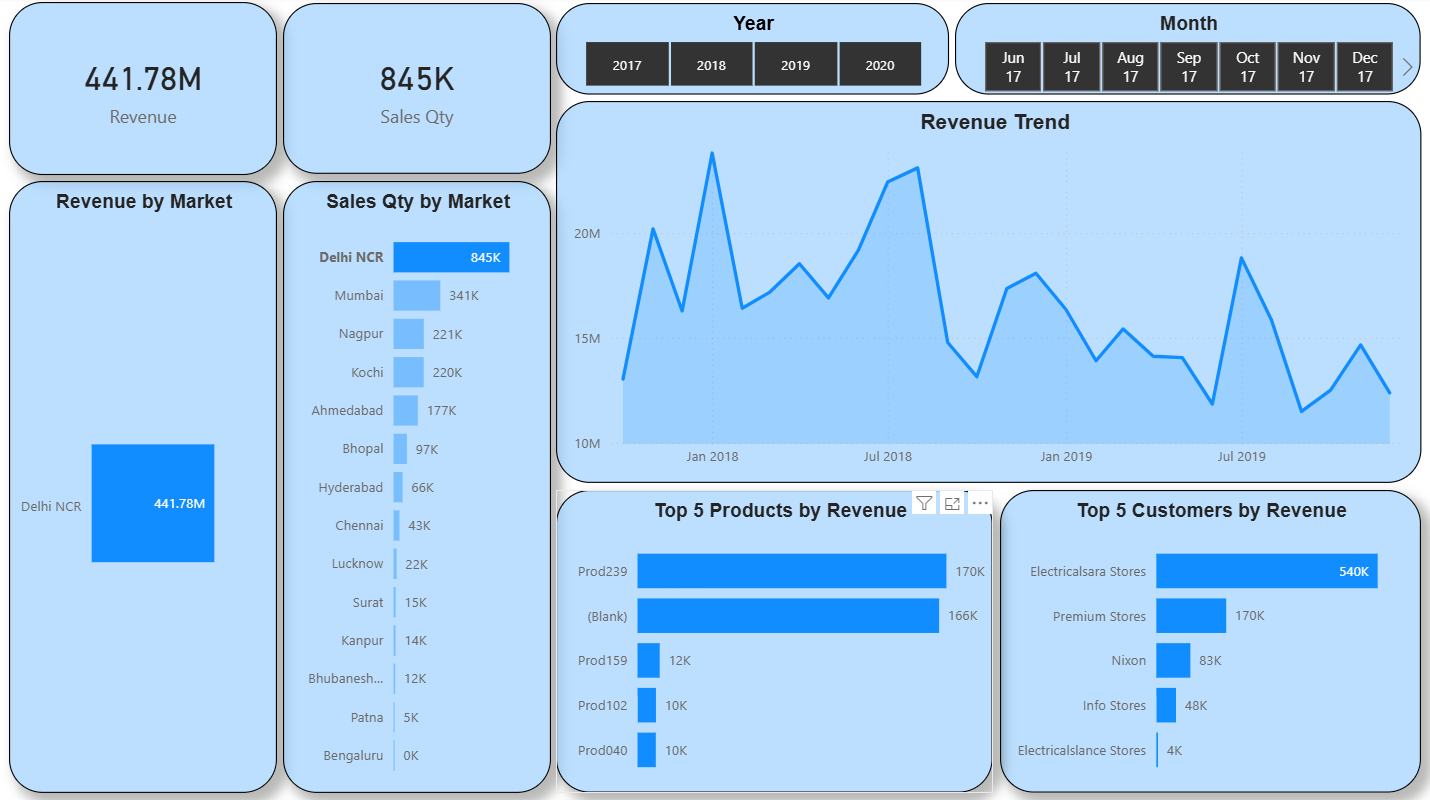

What the dashboard file says about the page in this screenshot:
{"tool":"powerbi","page":{"name":"Page 1","canvas":[1280,720],"ordinal":0},"visuals":[{"type":"card","fields":{"Values":["BaseMeasures.Revenue"]},"box":[8.1,4.5,240,154.9],"z":0},{"type":"card","fields":{"Values":["BaseMeasures.Sales Qty"]},"box":[253.4,5.4,240,153.1],"z":1000},{"type":"barChart","title":"Revenue by Market","fields":{"Category":["markets.markets_name"],"Y":["BaseMeasures.Revenue"]},"box":[8.1,164.8,240,548.1],"z":2000},{"type":"barChart","title":"Sales Qty by Market","fields":{"Category":["markets.markets_name"],"Y":["BaseMeasures.Sales Qty"]},"box":[253.4,164.8,240,548.1],"z":3000},{"type":"slicer","title":"Month","fields":{"Values":["date.cy_date"]},"box":[855.2,5.4,417.3,82.4],"z":4000},{"type":"slicer","title":"Year","fields":{"Values":["date.year"]},"box":[497.9,5.4,352,82.4],"z":5000},{"type":"barChart","title":"Top 5 Customers by Revenue","fields":{"Category":["customers.custmer_name"],"Y":["BaseMeasures.Sales Qty"]},"box":[895.5,441.5,377,271.3],"z":6000},{"type":"barChart","title":"Top 5 Products by Revenue","fields":{"Category":["products.product_code"],"Y":["BaseMeasures.Sales Qty"]},"box":[497.9,441.5,391.3,271.3],"z":7000},{"type":"lineChart","title":"Revenue Trend","fields":{"Y":["BaseMeasures.Revenue"],"Category":["date.cy_date.Variation.Date Hierarchy.Year","date.cy_date.Variation.Date Hierarchy.Quarter","date.cy_date.Variation.Date Hierarchy.Month","date.cy_date.Variation.Date Hierarchy.Day"]},"box":[497.9,93.1,774.6,342],"z":8000}]}

Visuals, with their boxes in screenshot pixels (x1, y1, x2, y2), scaled from the page's 1280x720 canvas onto the 1430x800 screenshot:
card - BaseMeasures.Revenue: locate(9, 5, 277, 177)
card - BaseMeasures.Sales Qty: locate(283, 6, 551, 176)
"Revenue by Market" barChart: locate(9, 183, 277, 792)
"Sales Qty by Market" barChart: locate(283, 183, 551, 792)
"Month" slicer: locate(955, 6, 1422, 98)
"Year" slicer: locate(556, 6, 949, 98)
"Top 5 Customers by Revenue" barChart: locate(1000, 491, 1422, 792)
"Top 5 Products by Revenue" barChart: locate(556, 491, 993, 792)
"Revenue Trend" lineChart: locate(556, 103, 1422, 483)
